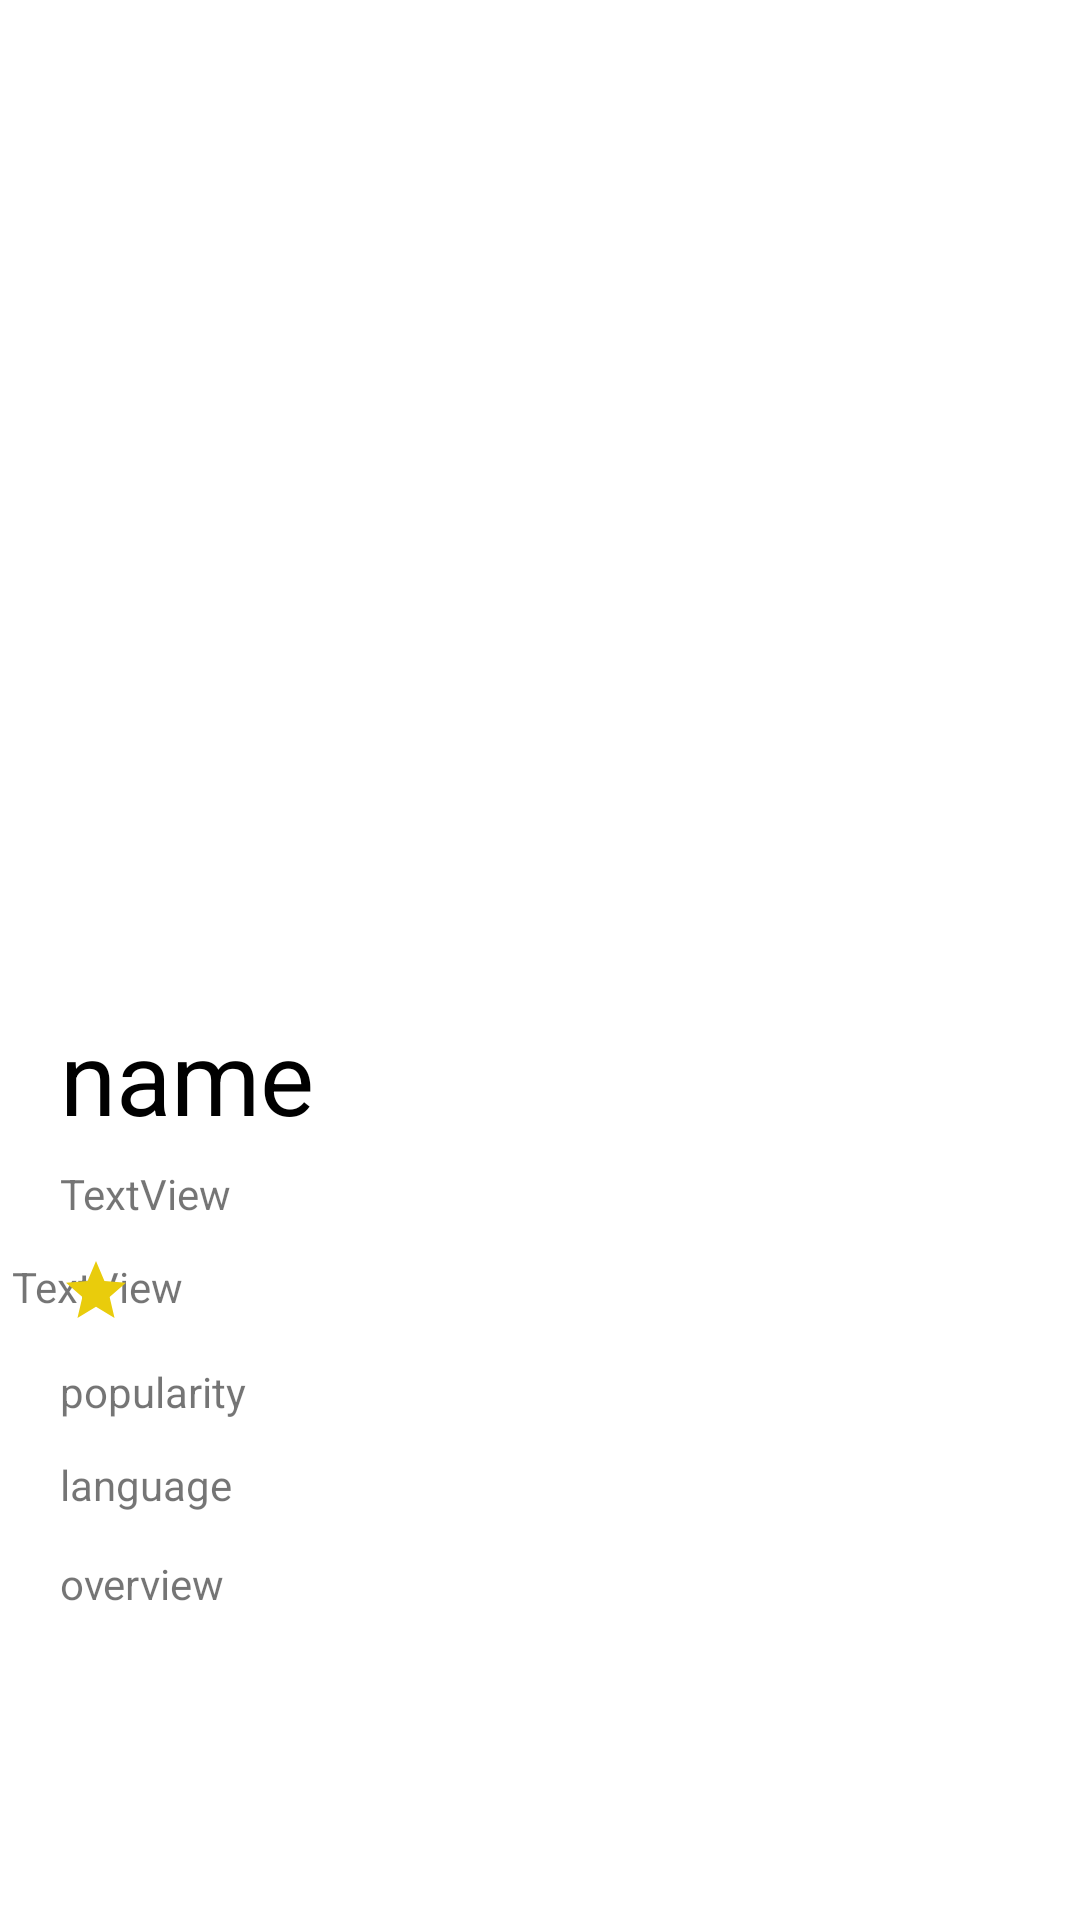

Screen size 1080 × 1920. Icon name, then its box in pixels as (x1,y1,x2,y2):
star: (60,1261,127,1318)
